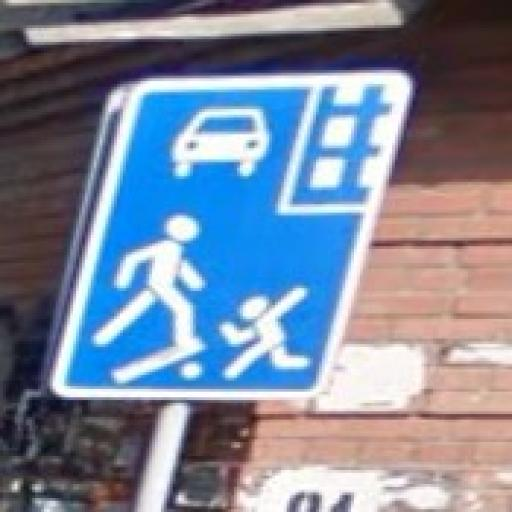traffic_sign: (54, 71, 417, 401)
